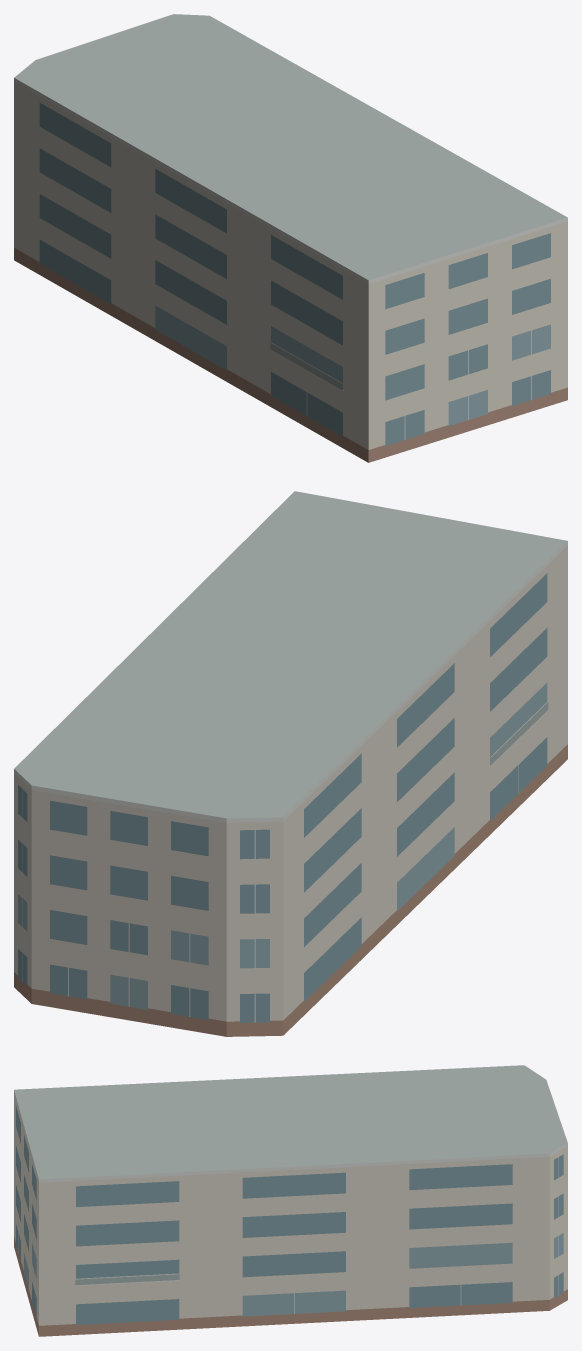
File: survey-upis-32926164.glb
3 views of the same model, one above another, from view 1: azimuth 30°, elevation 25°; view 2: azimuth 150°, elevation 25°; view 3: azimuth 270°, elevation 25° (orthographic). The views are drawn at different scales.
Parts seen in each view (by area): view 1: survey-upis-32926164.tmp; view 2: survey-upis-32926164.tmp; view 3: survey-upis-32926164.tmp.
Boxes of the visible parts, x1=… form: survey-upis-32926164.tmp: x1=14, y1=14, x2=567, y2=462; survey-upis-32926164.tmp: x1=14, y1=491, x2=567, y2=1036; survey-upis-32926164.tmp: x1=14, y1=1065, x2=567, y2=1336.
Size of the model in its own units: 18.26 by 11.7 by 37.35.
